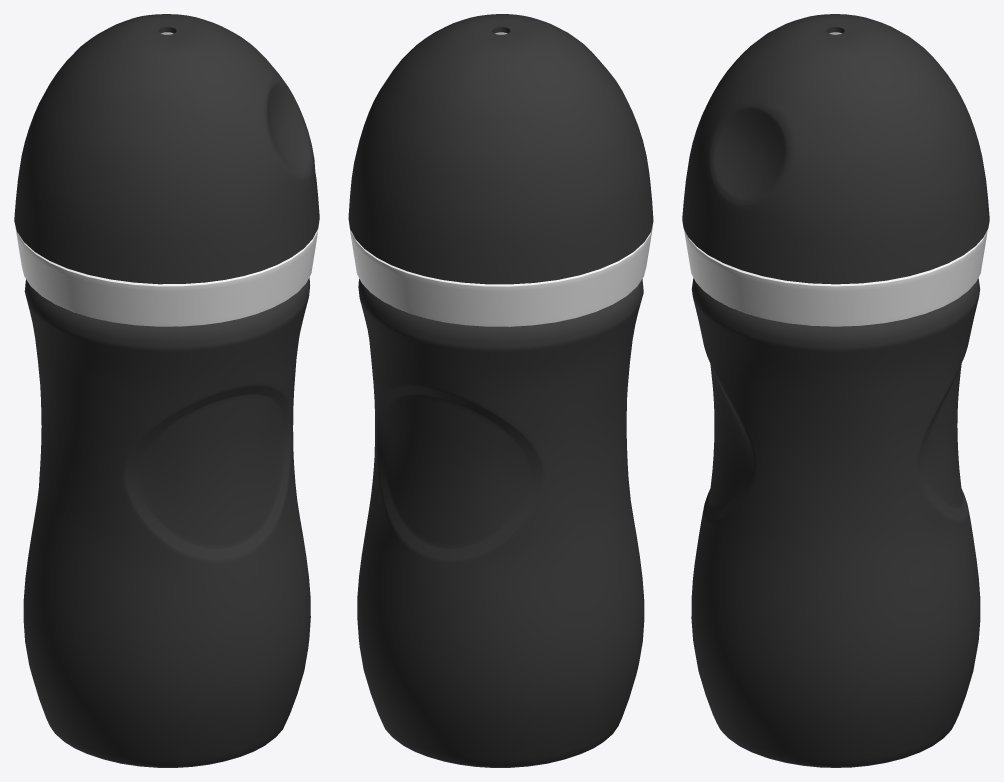
File: Bottle_6.glb
3 views of the same model, side by side, from view 1: azimuth 30°, elevation 25°; view 2: azimuth 150°, elevation 25°; view 3: azimuth 270°, elevation 25° (orthographic).
Visible parts, largest first — view 1: SCF053_18; view 2: SCF053_18; view 3: SCF053_18.
Boxes of the visible parts, x1,y1,x2,y2 form: SCF053_18: [14, 14, 319, 767]; SCF053_18: [348, 14, 653, 767]; SCF053_18: [682, 14, 989, 767].
Size of the model in its own units: 0.0703 by 0.1756 by 0.0707.
3 materials, 1 textured.
